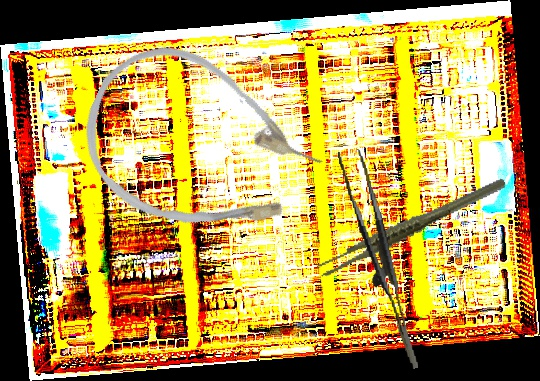Cannula: (59, 22, 342, 274)
Tissue Forceps: (306, 176, 517, 279), (337, 144, 419, 376)
